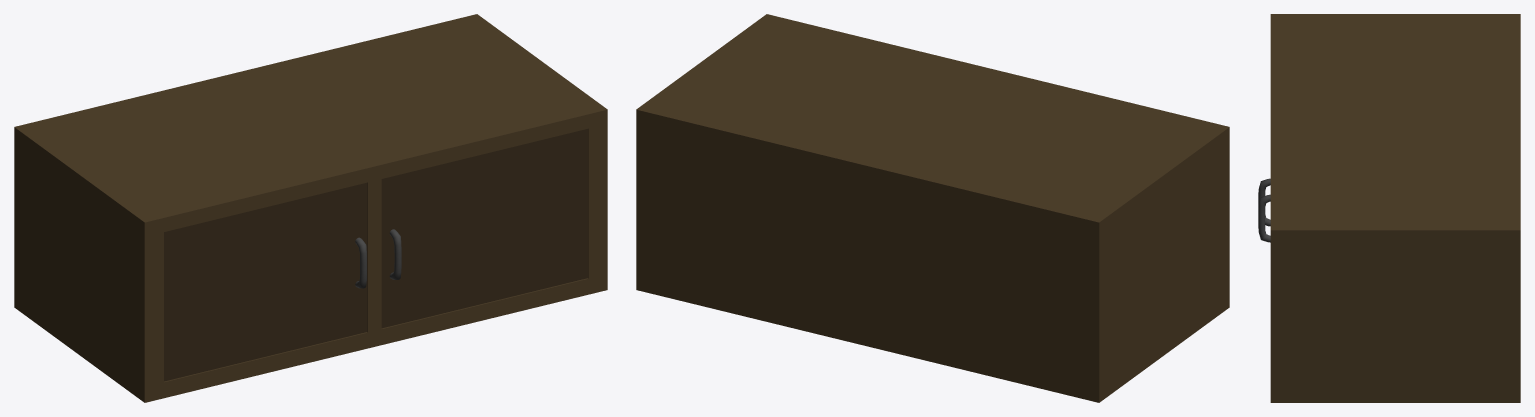
Rendered from Armario_Libros.fbx.
The picture shows the model from 3 angles, left to right: view 1: azimuth 30°, elevation 25°; view 2: azimuth 150°, elevation 25°; view 3: azimuth 270°, elevation 25°; orthographic projection. The views are drawn at different scales.
Visible parts, largest first — view 1: Armario, Object001, Armario001; view 2: Armario; view 3: Armario, Object001.
Boxes of the visible parts, left/top/right/bottom form: Armario: left=14, top=14, right=607, bottom=402; Object001: left=381, top=129, right=588, bottom=328; Armario001: left=164, top=182, right=367, bottom=381; Armario: left=636, top=14, right=1229, bottom=402; Armario: left=1270, top=14, right=1520, bottom=402; Object001: left=1258, top=194, right=1270, bottom=242.
Size of the model in its own units: 161 by 60.12 by 82.84.
